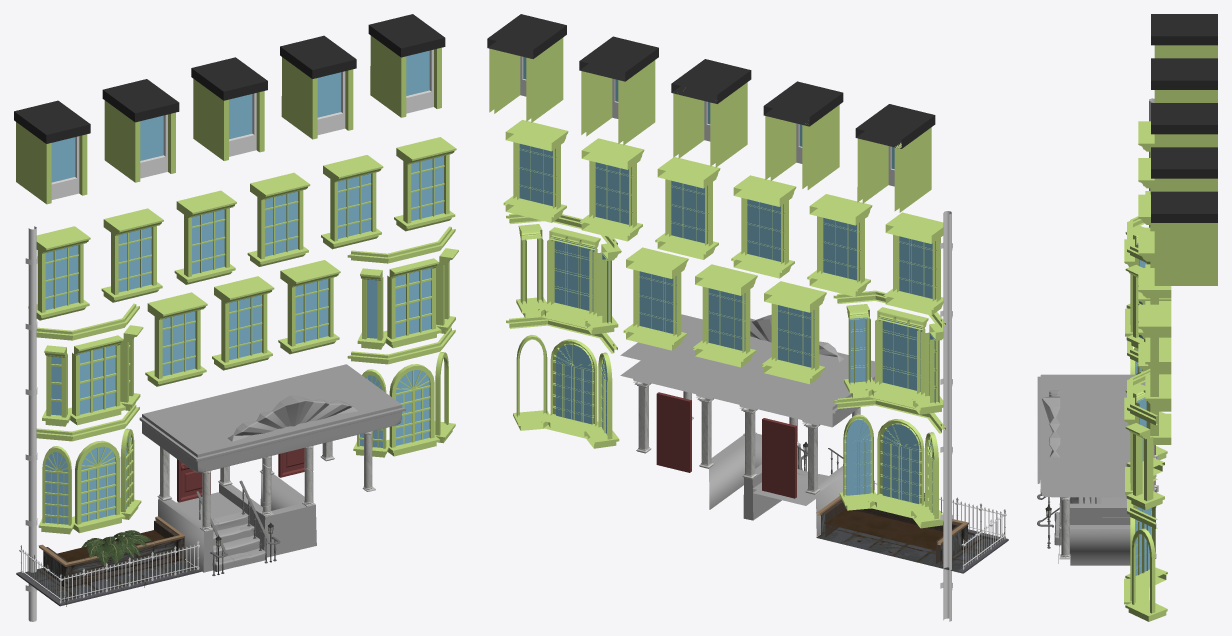
Rendered from Empty_BuildingSide_R.fbx.
The picture shows the model from 3 angles, left to right: view 1: azimuth 30°, elevation 25°; view 2: azimuth 150°, elevation 25°; view 3: azimuth 270°, elevation 25°; orthographic projection. The views are drawn at different scales.
Parts seen in each view (by area): view 1: Windows_Roof, MESH_Roof, Windows_03, Windows_03.001, Walls_LowR, Regenpijp, Windows_04, geo_Masonry_Ornament7_J, Windows_02.013, Windows_02.014, Windows_02.016, Windows_02.011 (+33 smaller); view 2: Windows_Roof, MESH_Roof, Windows_03, Windows_03.001, geo_Masonry_Ornament7_J, Windows_04, Walls_LowR, Regenpijp, Windows_02.005, Windows_02.014, Windows_02.012, Windows_02.015 (+31 smaller); view 3: Windows_Roof, MESH_Roof, Walls_LowR, Windows_03, geo_Masonry_Ornament7_J, Windows_02.013, Windows_03.001, Windows_02.012, Windows_02.014, MESH_Roof_Ornament, Windows_02.011, Windows_04.016 (+5 smaller).
Boxes of the visible parts, bbox=[...] form: Windows_Roof: bbox=[14, 14, 445, 204]; MESH_Roof: bbox=[139, 364, 405, 472]; Windows_03: bbox=[347, 226, 458, 364]; Windows_03.001: bbox=[36, 303, 143, 441]; Walls_LowR: bbox=[158, 473, 316, 572]; Regenpijp: bbox=[25, 226, 37, 621]; Windows_04: bbox=[38, 428, 141, 534]; geo_Masonry_Ornament7_J: bbox=[353, 352, 455, 457]; Windows_02.013: bbox=[394, 137, 456, 231]; Windows_02.014: bbox=[278, 260, 340, 354]; Windows_02.016: bbox=[145, 292, 207, 386]; Windows_02.011: bbox=[247, 172, 310, 266]; Windows_Roof: bbox=[487, 14, 935, 212]; MESH_Roof: bbox=[620, 314, 874, 427]; Windows_03: bbox=[506, 213, 621, 353]; Windows_03.001: bbox=[833, 290, 945, 433]; geo_Masonry_Ornament7_J: bbox=[513, 334, 619, 448]; Windows_04: bbox=[839, 414, 943, 528]; Walls_LowR: bbox=[709, 433, 843, 536]; Regenpijp: bbox=[940, 211, 952, 621]; Windows_02.005: bbox=[883, 212, 943, 315]; Windows_02.014: bbox=[623, 247, 688, 350]; Windows_02.012: bbox=[579, 138, 644, 241]; Windows_02.015: bbox=[692, 264, 757, 367]; Windows_Roof: bbox=[1151, 14, 1217, 285]; MESH_Roof: bbox=[1037, 374, 1154, 497]; Walls_LowR: bbox=[1058, 497, 1134, 565]; Windows_03: bbox=[1124, 369, 1164, 528]; geo_Masonry_Ornament7_J: bbox=[1124, 505, 1167, 621]; Windows_02.013: bbox=[1138, 304, 1171, 405]; Windows_03.001: bbox=[1124, 216, 1150, 362]; Windows_02.012: bbox=[1138, 268, 1171, 368]; Windows_02.014: bbox=[1138, 343, 1171, 444]; MESH_Roof_Ornament: bbox=[1042, 390, 1060, 457]; Windows_02.011: bbox=[1138, 231, 1171, 304]; Windows_04.016: bbox=[1135, 507, 1151, 575].
Bounding box in the file's own units: 798 × 837 × 277.
